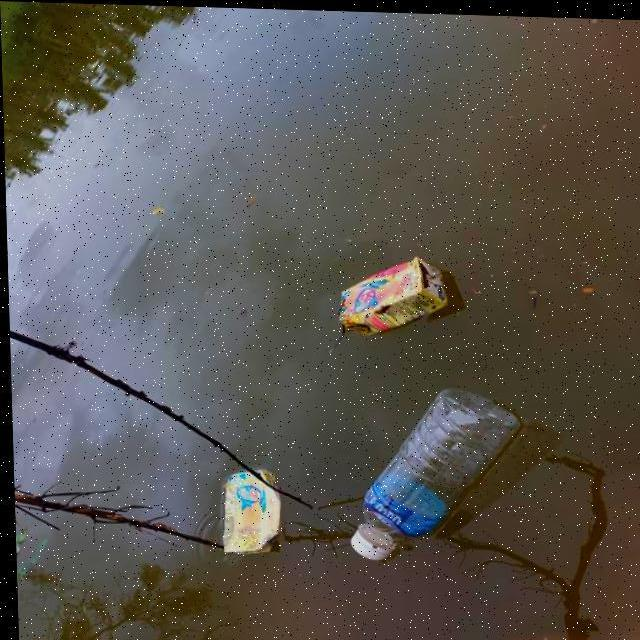Bottle: (348, 379, 528, 569)
Box: (331, 252, 460, 341), (217, 460, 291, 562)
